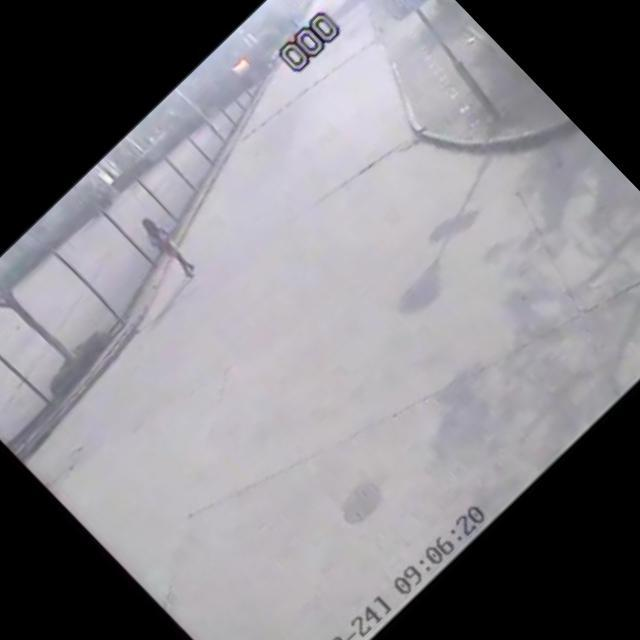person: (117, 202, 218, 304)
